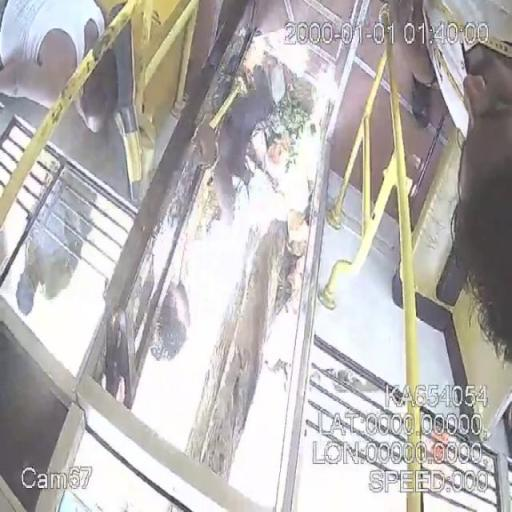persona: (420, 0, 512, 367)
